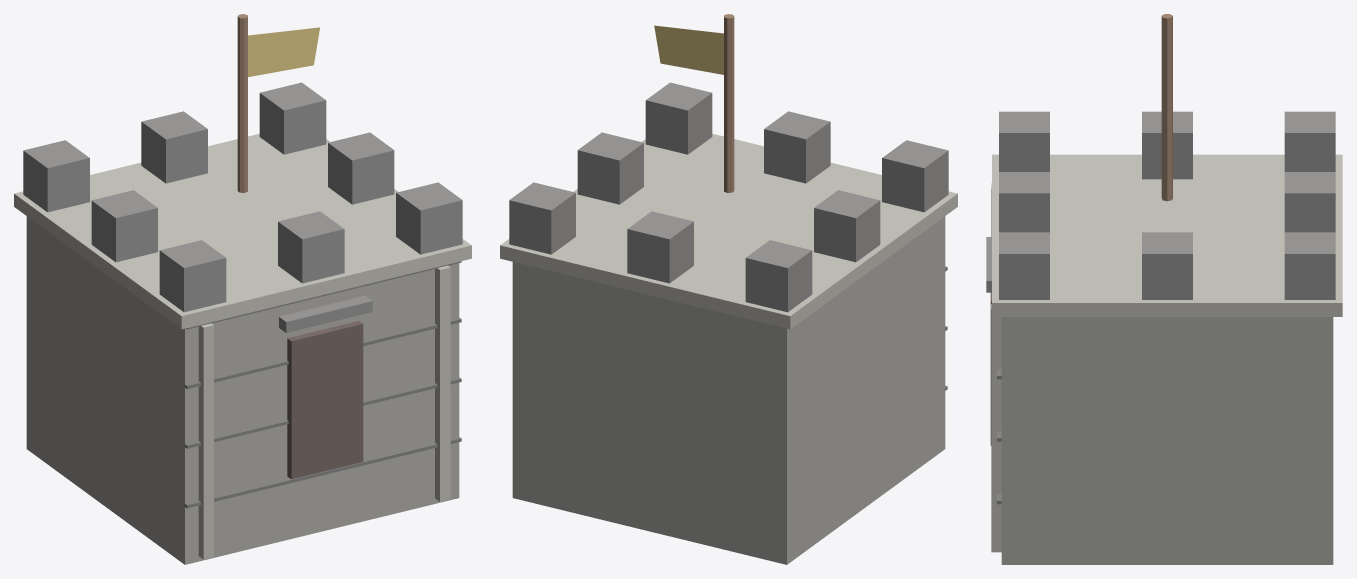
Rendered from torre_homenaje.glb.
3 views of the same model, side by side, from view 1: azimuth 30°, elevation 25°; view 2: azimuth 150°, elevation 25°; view 3: azimuth 270°, elevation 25° (orthographic). The views are drawn at different scales.
Parts seen in each view (by area): view 1: torre_homenaje; view 2: torre_homenaje; view 3: torre_homenaje.
Part boxes in pixels (<box>): torre_homenaje: <box>14,14,471,564</box>; torre_homenaje: <box>500,14,957,564</box>; torre_homenaje: <box>986,14,1342,564</box>.
Size of the model in its own units: 2.75 by 4.14 by 2.79.
